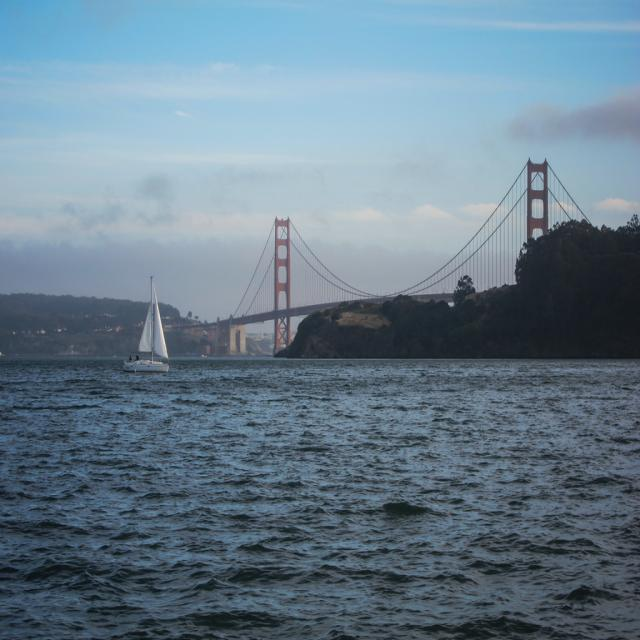Boat: (122, 280, 175, 383)
